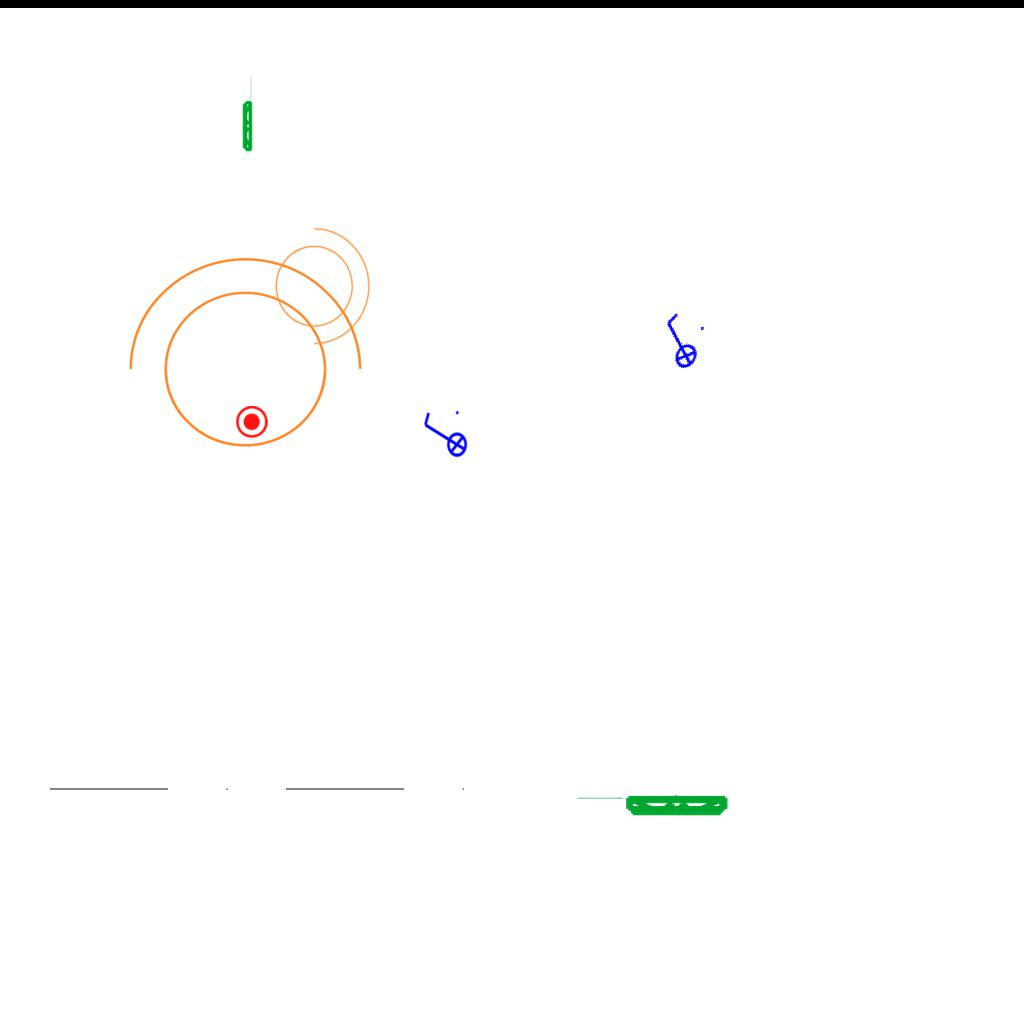Ausschalter_beleuchtet: (644, 305, 714, 379), (420, 408, 468, 464)
Scheinwerfer_fuer_Alarmbeleuchtung: (107, 247, 371, 472), (263, 217, 375, 349)
Sicherheitsleuchte_Wandeinbau: (572, 794, 731, 819), (241, 74, 253, 153)
Taster: (235, 406, 268, 439)
